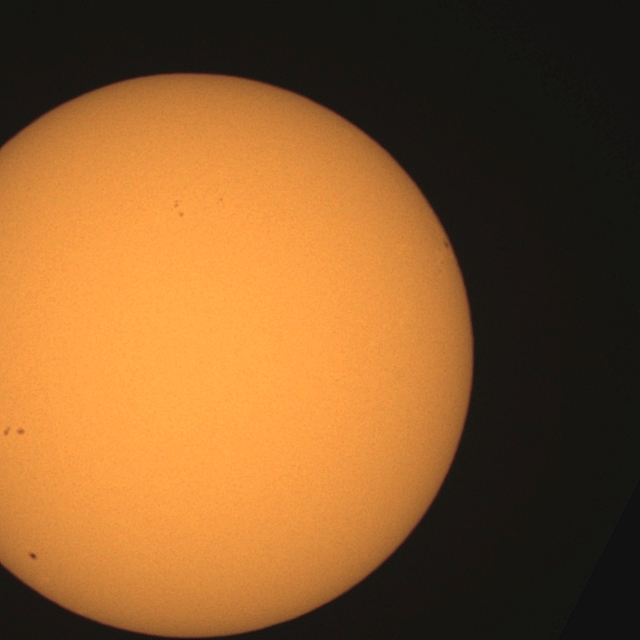sunspot: (2, 426, 26, 438), (172, 199, 184, 219), (2, 426, 12, 437), (16, 427, 26, 436), (442, 240, 450, 250), (28, 552, 38, 560)
